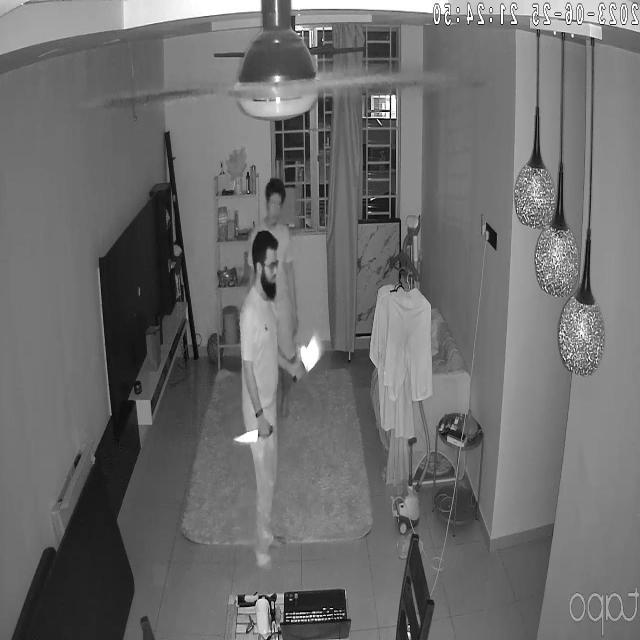Knife: (229, 416, 273, 450)
